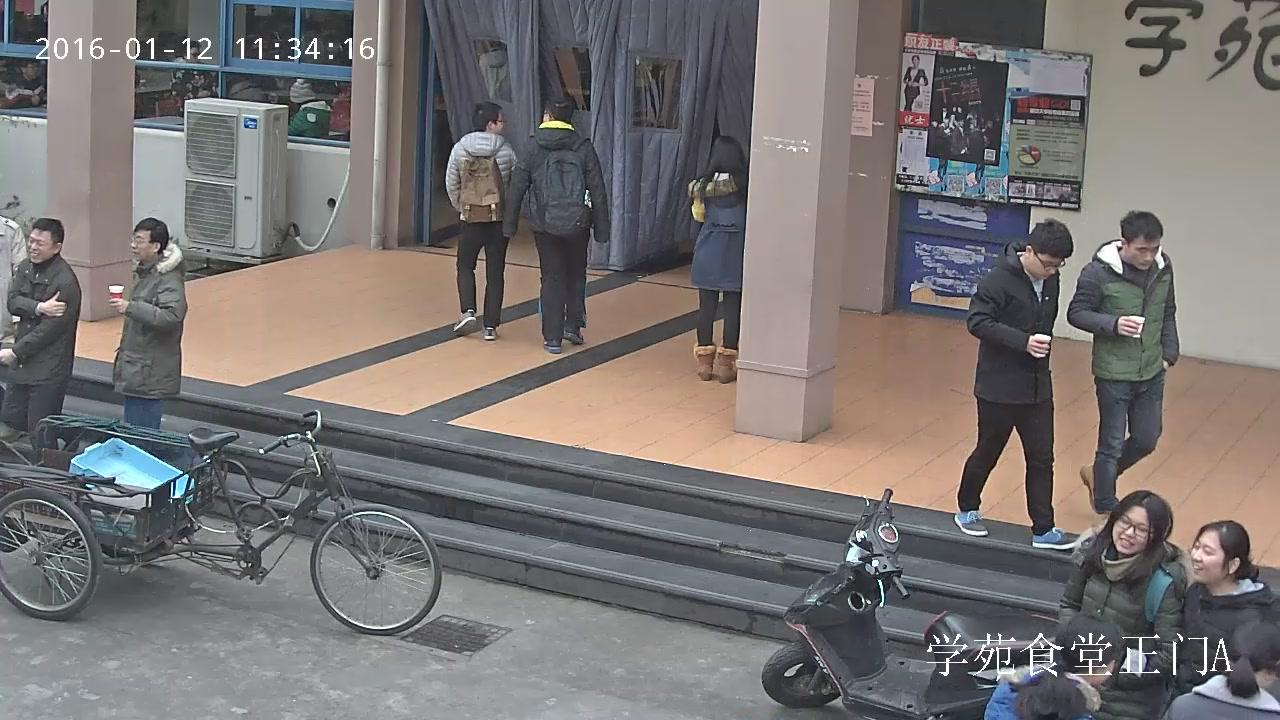person: (951, 218, 1077, 548), (1064, 211, 1179, 514), (1057, 490, 1185, 719), (501, 97, 611, 352), (1170, 520, 1278, 698), (445, 101, 519, 340), (0, 217, 81, 433), (108, 216, 187, 429), (687, 134, 748, 384), (982, 616, 1118, 720), (1158, 619, 1279, 720), (169, 41, 213, 119), (286, 79, 329, 138), (7, 58, 45, 108), (903, 55, 928, 111)
